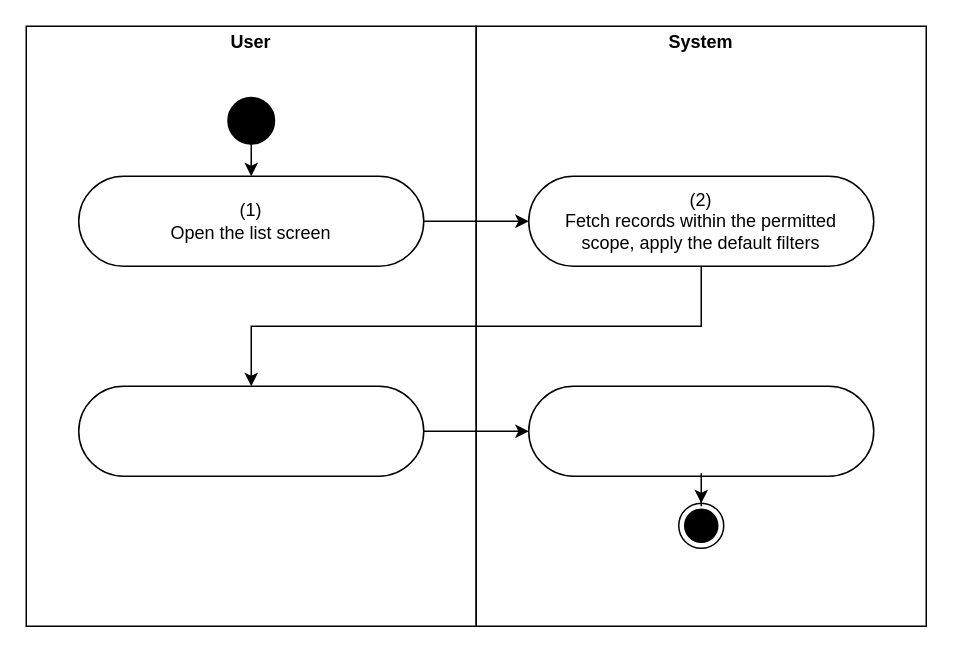
The diagram is 953 pixels wide and 653 high, and some of its shapes have lost their labels. Each missing label, with the centre of its shape:
(3) Search / filter / sort / paginate: pixel 250 430
(4) Refresh the list: pixel 700 430
